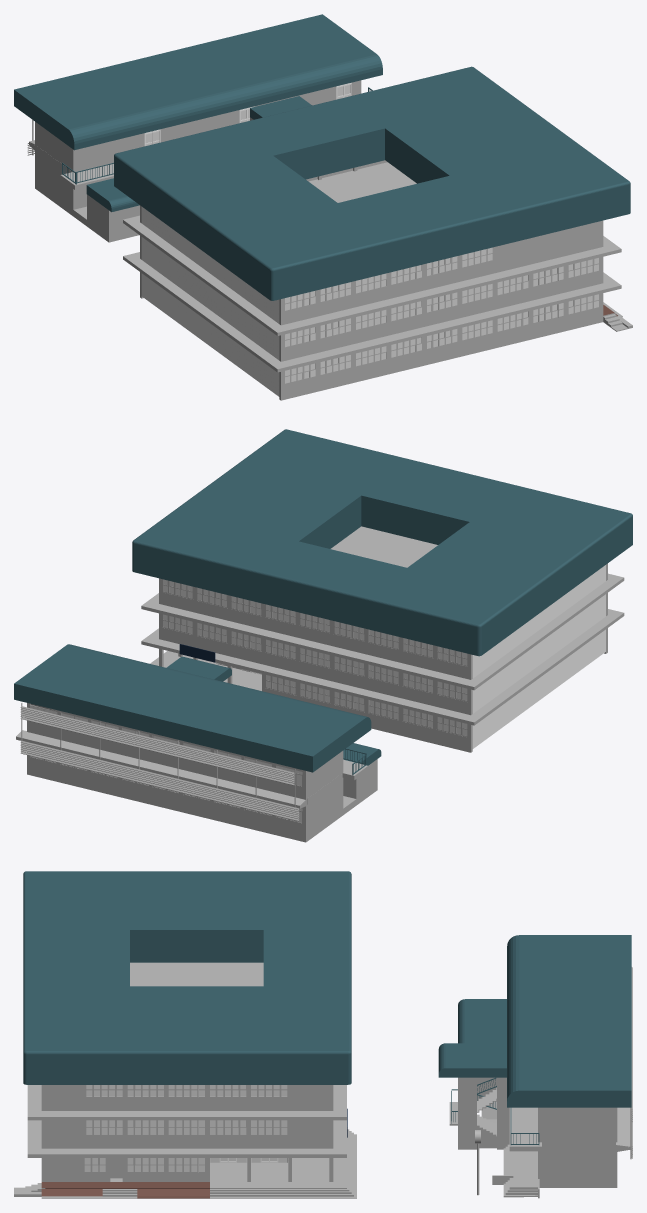
Rendered from Electronic_TE.glb.
3 renders of one model, top to bottom at view 1: azimuth 30°, elevation 25°; view 2: azimuth 150°, elevation 25°; view 3: azimuth 270°, elevation 25°, orthographic. The views are drawn at different scales.
Visible parts, largest first — view 1: Cube.015, Cube.093, Cube.001, Cube.007, Cube.005, floor2, Cube, Cube.086, Cube.099, Cube.102, Cube.103, Cube.095 (+2 smaller); view 2: Cube.015, Cube.093, frame out building.005, wall, Cube.007, Cube.005, Cube.099, floor2, Cube.086, Cube.011, Pilla.009, Cube.095 (+3 smaller); view 3: Cube.015, Cube.093, Cube.001, Cube.005, Cube.095, floor1, floor2, Cube.099, Cube.086, Cube.103, Cube.004, Cube.006 (+19 smaller).
Part boxes in pixels (x1,y1,x2,y2): Cube.015: (114, 66, 630, 300); Cube.093: (14, 14, 382, 150); Cube.001: (284, 221, 599, 399); Cube.007: (141, 207, 279, 396); Cube.005: (123, 162, 621, 335); floor2: (123, 252, 621, 372); Cube: (279, 220, 603, 400); Cube.086: (76, 81, 358, 171); Cube.099: (37, 123, 86, 214); Cube.102: (87, 194, 139, 242); Cube.103: (86, 178, 139, 212); Cube.095: (73, 96, 311, 226); Cube.015: (132, 429, 632, 656); Cube.093: (14, 644, 371, 772); frame out building.005: (16, 703, 306, 821); wall: (162, 592, 467, 751); Cube.007: (472, 565, 605, 748); Cube.005: (141, 526, 624, 690); Cube.099: (30, 733, 341, 841); floor2: (141, 609, 624, 725); Cube.086: (30, 704, 302, 798); Cube.011: (193, 587, 472, 752); Pilla.009: (27, 703, 343, 842); Cube.095: (166, 656, 356, 814); Cube.015: (23, 871, 351, 1084); Cube.093: (507, 935, 631, 1107); Cube.001: (45, 1085, 329, 1181); Cube.005: (27, 962, 346, 1120); Cube.095: (438, 1043, 537, 1197); floor1: (41, 1158, 346, 1188); floor2: (27, 1120, 346, 1157); Cube.099: (542, 1149, 613, 1187); Cube.086: (542, 1107, 613, 1142); Cube.103: (458, 999, 506, 1043); Cube.004: (210, 1129, 356, 1198); Cube.006: (124, 1085, 333, 1181).
Size of the model in its own units: 45.56 by 17.15 by 65.62.
